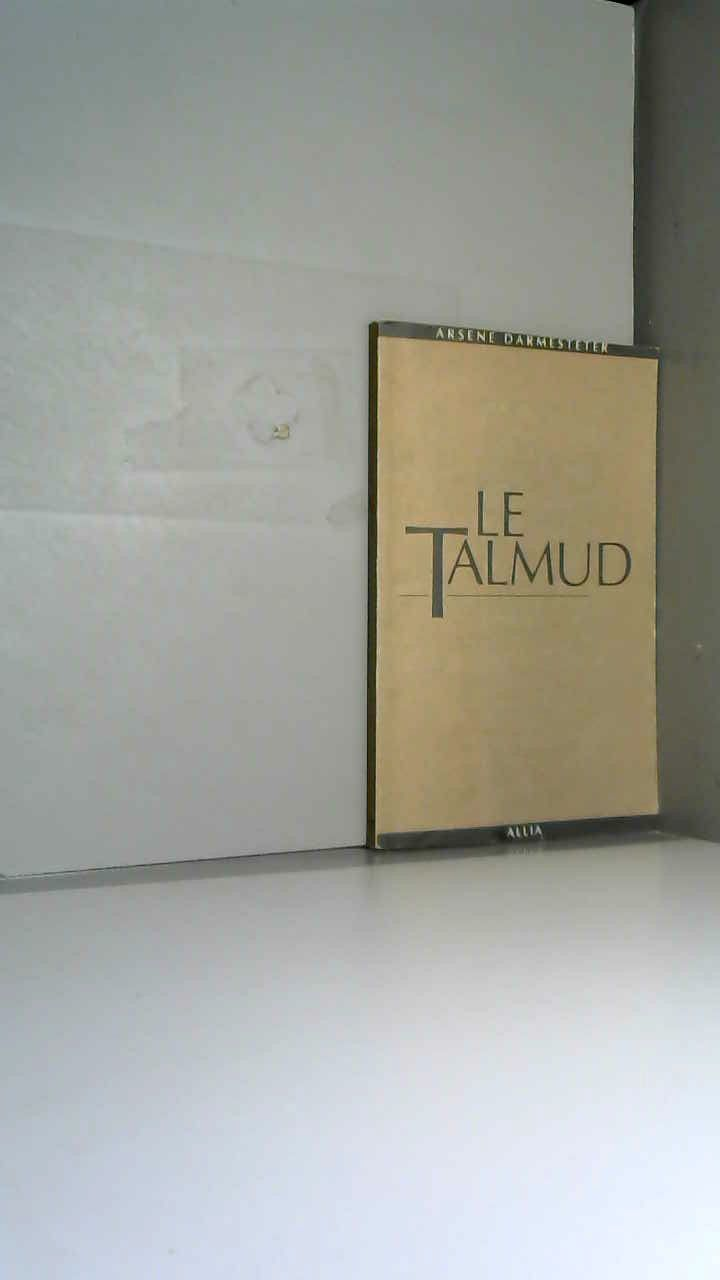book: (340, 290, 720, 910)
